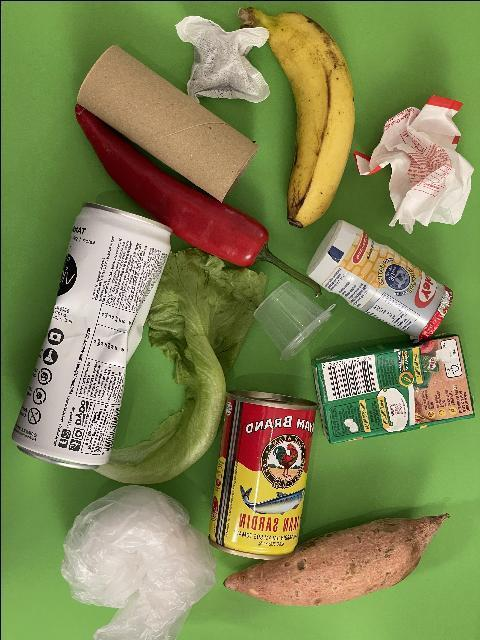banana: (236, 4, 356, 230)
chilli: (72, 102, 322, 298)
drinkcan: (11, 200, 174, 470)
drinkpack: (309, 331, 475, 445)
foodcan: (208, 388, 318, 558)
lettuce: (90, 243, 268, 484)
paperbag: (352, 92, 474, 235)
plasticbottle: (304, 216, 454, 344)
plasticcontainer: (252, 278, 336, 362)
sweetpotato: (222, 510, 450, 608)
teabag: (175, 14, 269, 104)
tissueroll: (74, 43, 260, 205)
